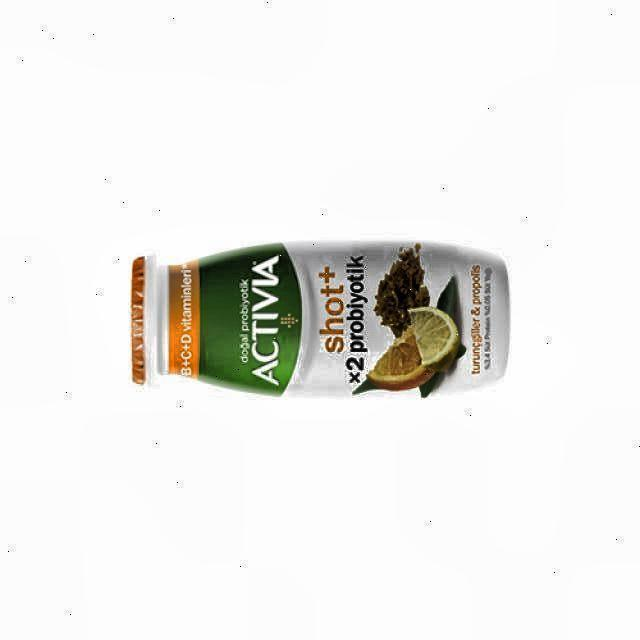plastic: (131, 242, 509, 396)
